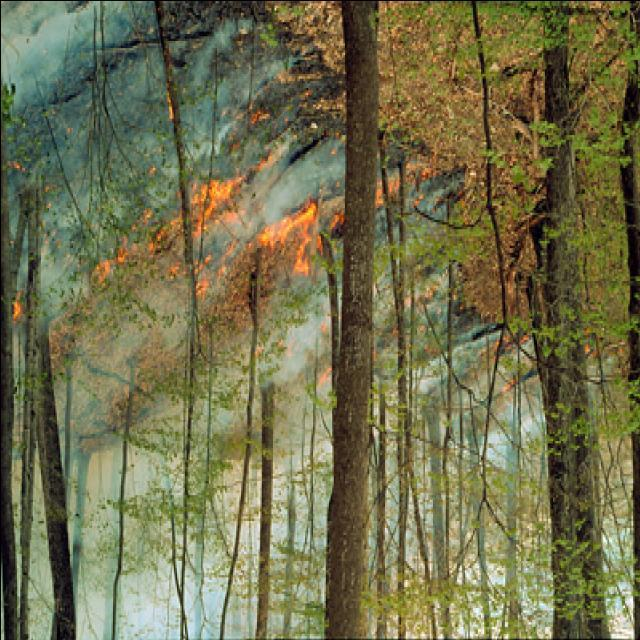Fire: (184, 176, 328, 280)
